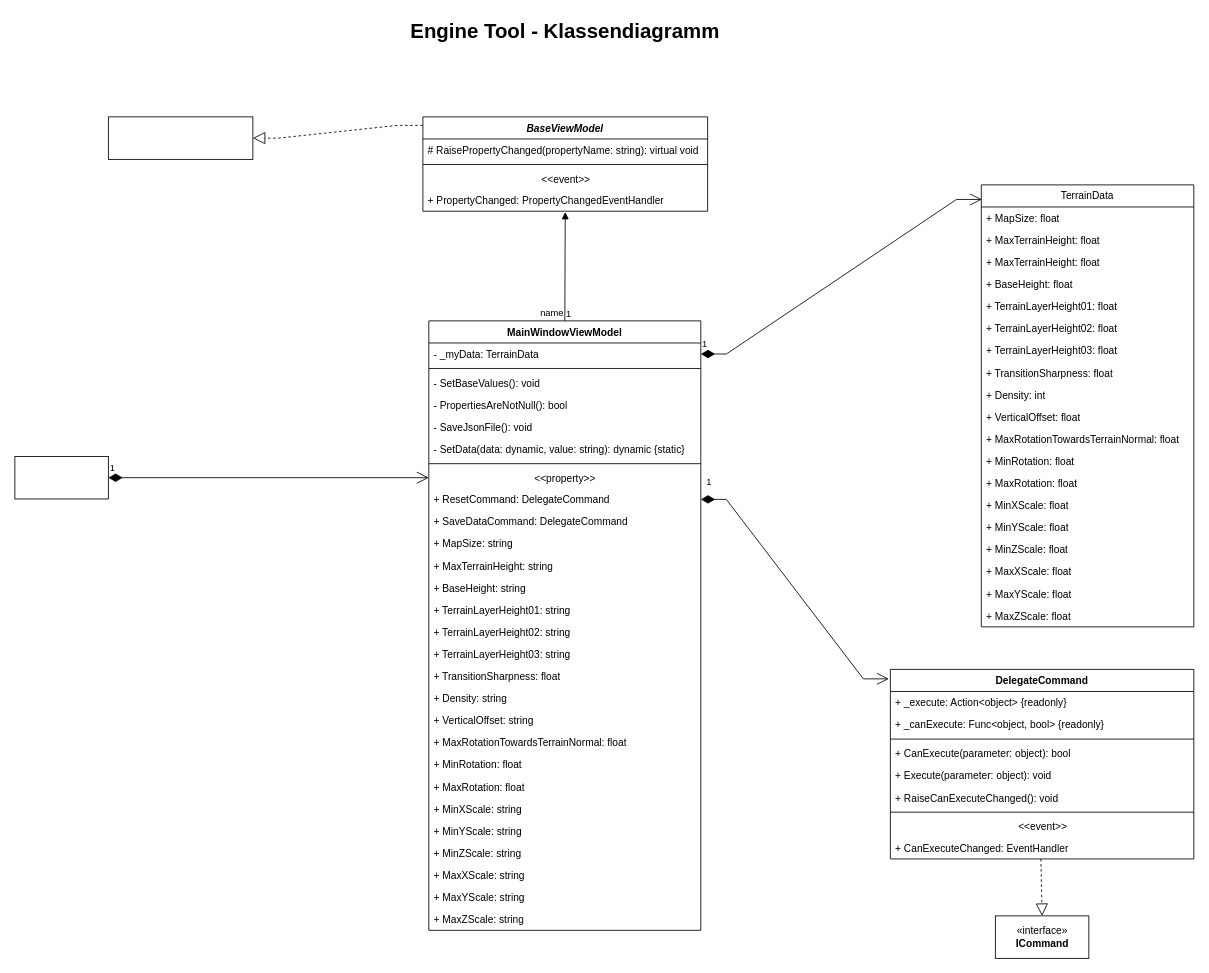
Some shapes in this 1209 by 973 pixel diagram are drawn without their labels. Here are the shapes that lost their labels. From the top down, the centre of each, then its label:
At [180,137]: "«interface» INotifyPropertyChanged".
At [61,477]: "MainWindow".
